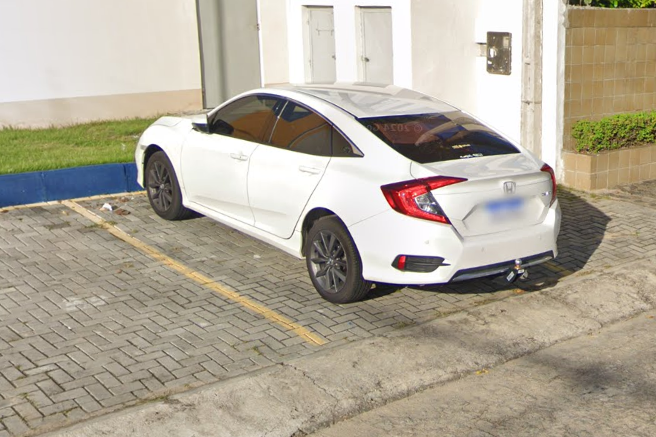car: (133, 78, 563, 309)
